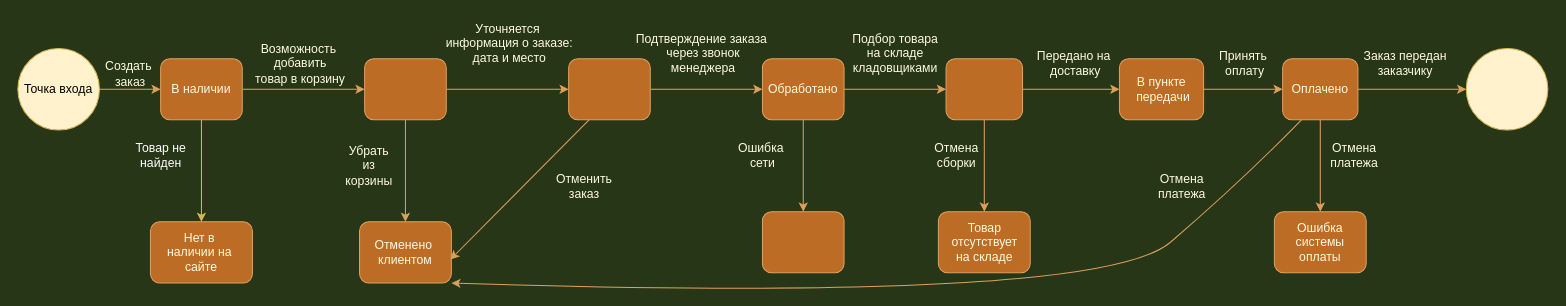
Image size: 1566x306. Some labels were removed from this diagram. The centre of each missing label's shape, as x and y in pixels:
В корзине: point (405, 89)
Заказано: point (609, 89)
Не поступил звонок: point (802, 242)
Собрано: point (984, 89)
Точка выхода: point (1506, 88)
